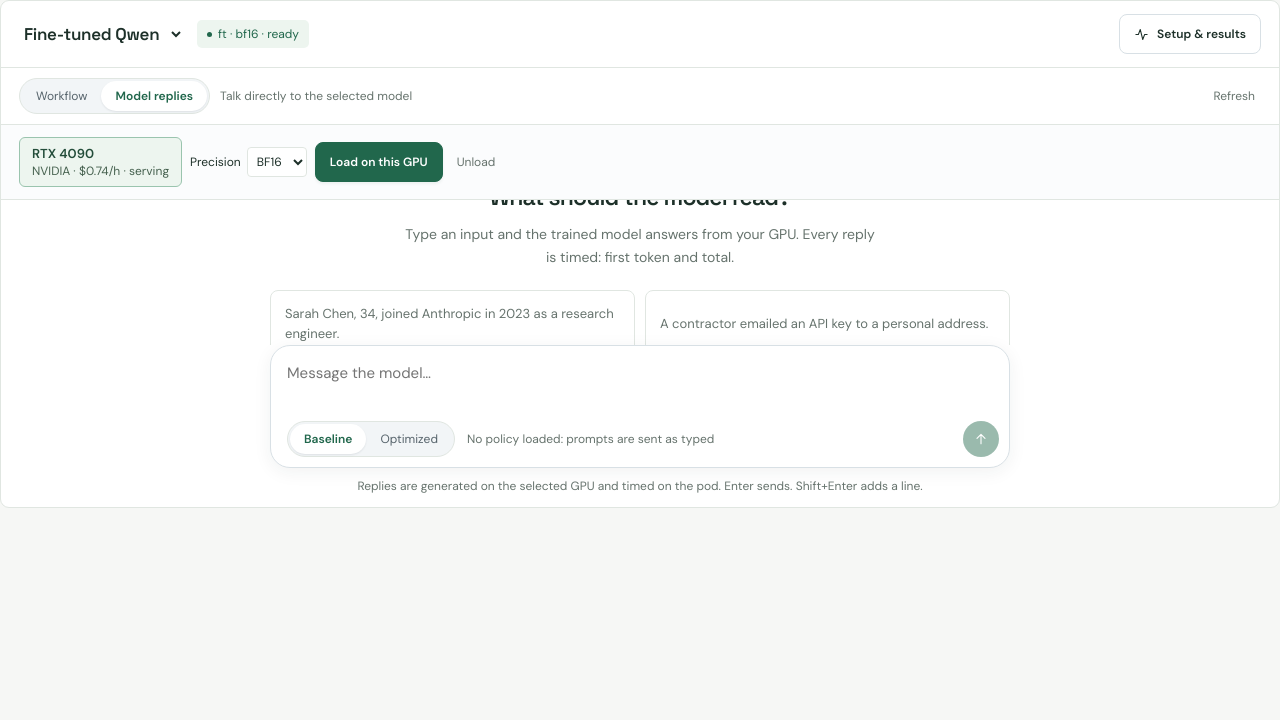
Test: literal model prompts mentioning train are streamed without workflow actions
(page scrolled)
Type "Train baseline is a phrase; explain it." into the text box labelled "Message the model" at (643, 384), box [287,354,999,415]
Then press Enter
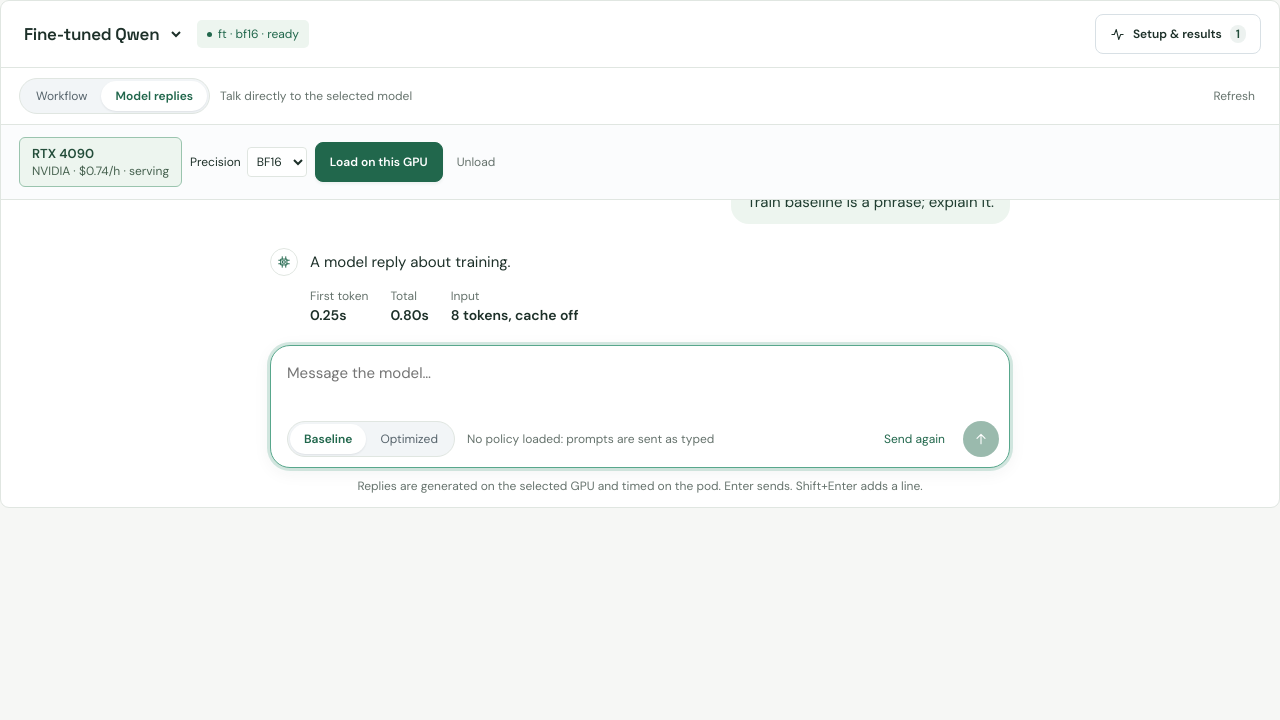
Now the text "A model reply about training." is shown, box [310,252,511,272]
